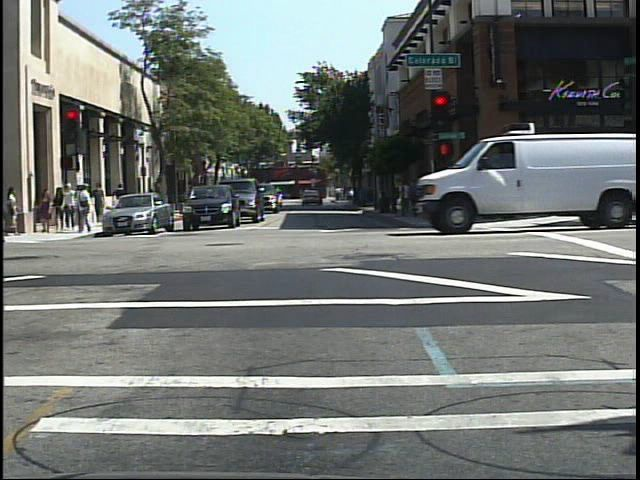person: (73, 180, 95, 236)
